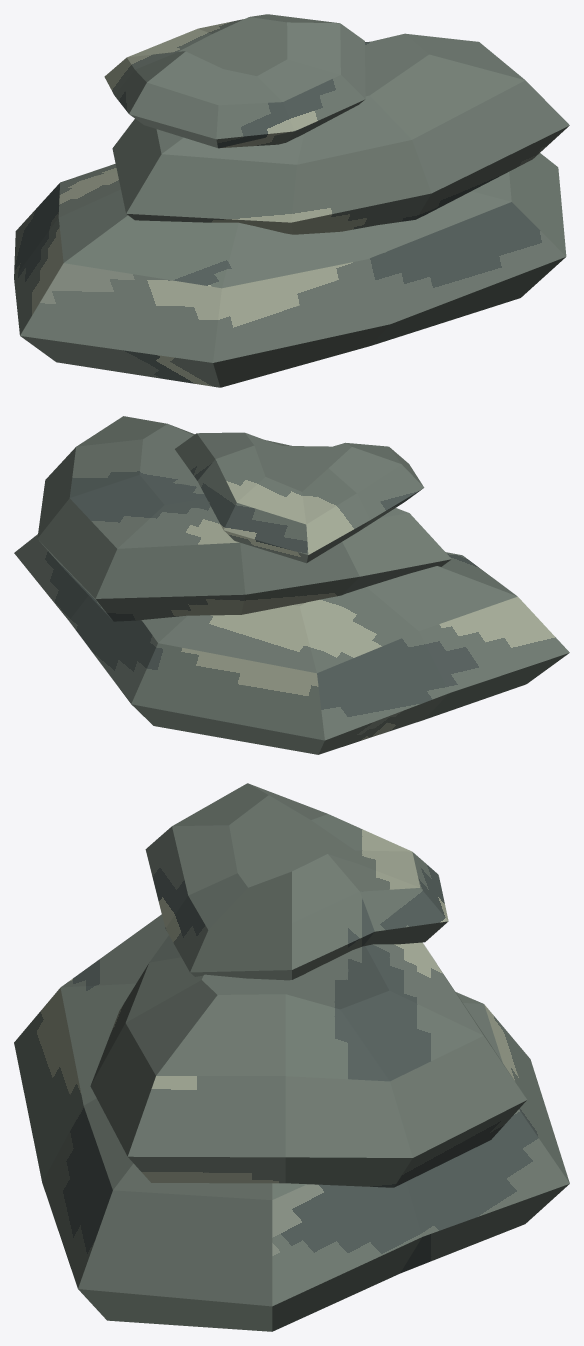
File: rock-open.glb
3 renders of one model, top to bottom at view 1: azimuth 30°, elevation 25°; view 2: azimuth 150°, elevation 25°; view 3: azimuth 270°, elevation 25°, orthographic. The views are drawn at different scales.
Visible parts, largest first — view 1: rock-open runtime mesh; view 2: rock-open runtime mesh; view 3: rock-open runtime mesh.
Part boxes in pixels (x1,y1,x2,y2): rock-open runtime mesh: (14, 14, 569, 387); rock-open runtime mesh: (14, 416, 569, 754); rock-open runtime mesh: (14, 783, 569, 1331).
Size of the model in its own units: 1.32 by 0.5849 by 0.8398.
Materials: 1 (1 with a texture image).
